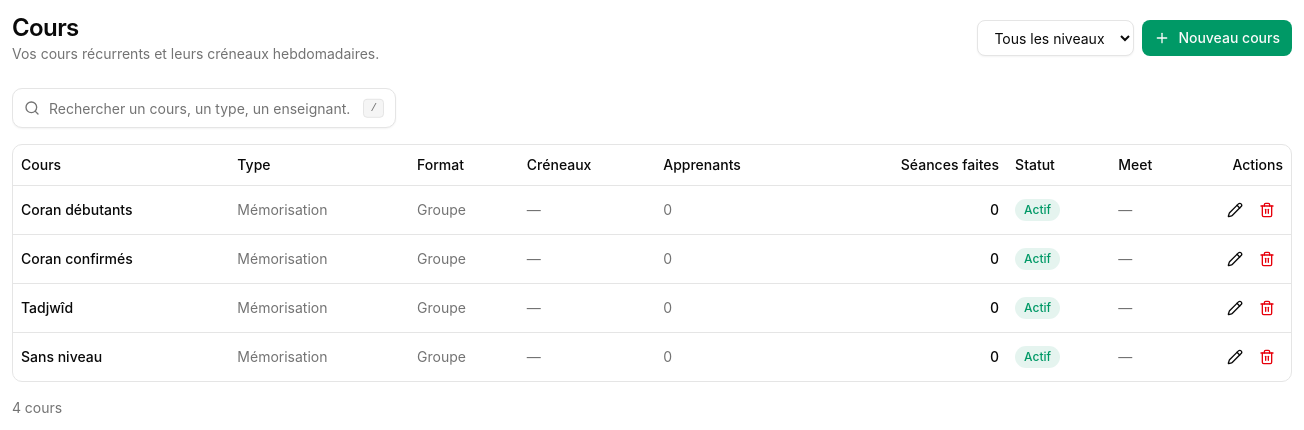
Test case: CoursPage — filtre par niveau › ne garde que les cours du niveau choisi
Step 1. Select "Niveau 2" in the dropdown named "Filtrer par niveau" → (1056, 38), box x1=977 y1=20 x2=1134 y2=56
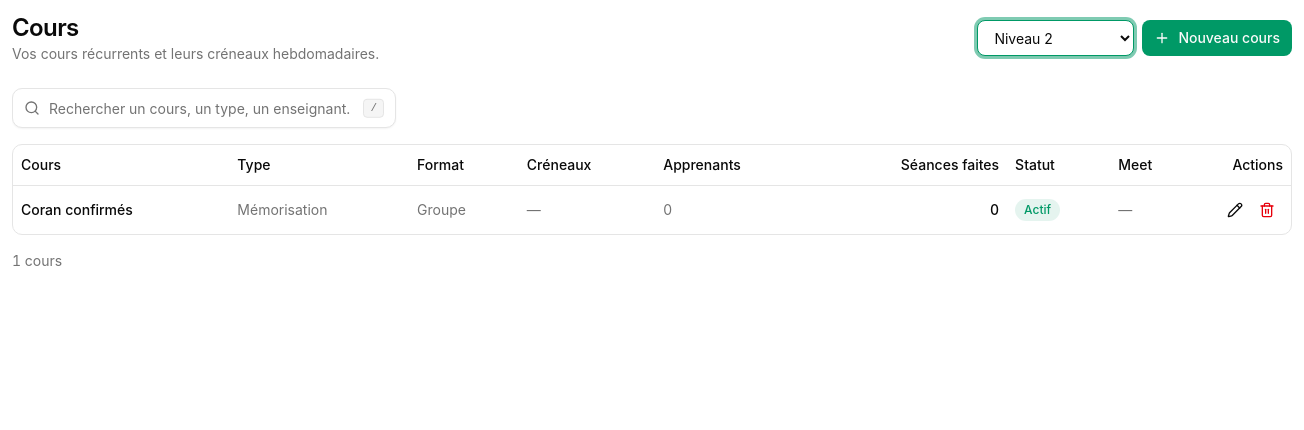
Check: the button "Coran confirmés" is shown, box x1=21 y1=200 x2=133 y2=220
Check: the button "Coran débutants" is gone
Check: the button "Sans niveau" is gone
